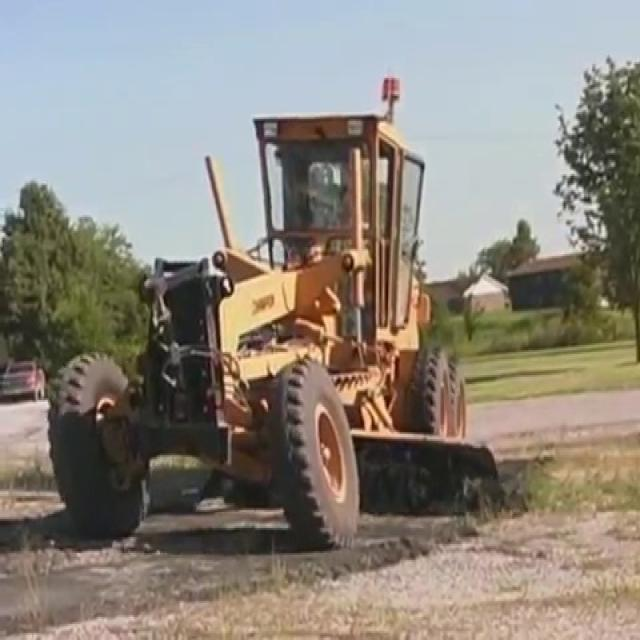buldozerpayloadergrader: (47, 116, 501, 554)
